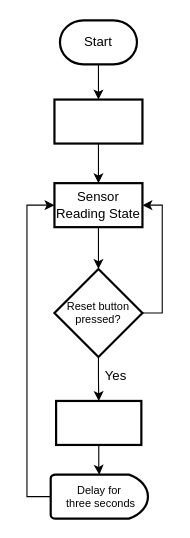
Image size: 190x538. Some labels were removed from this diagram. Each missing label, with the centre of its shape:
Initial State: pixel 98 121
Reset State: pixel 98 422
